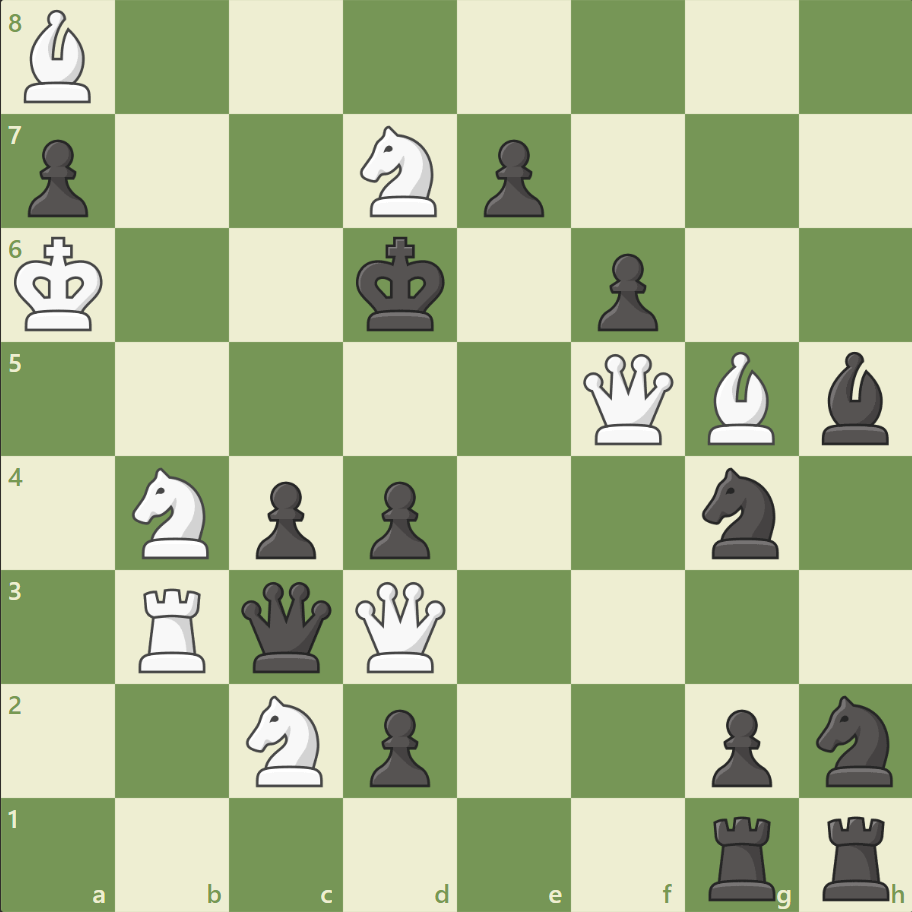B: (17, 6, 101, 109), (698, 347, 782, 449)
K: (11, 231, 111, 339)
N: (124, 461, 222, 564), (351, 121, 449, 223), (238, 688, 335, 791)
Q: (578, 349, 677, 449), (351, 576, 450, 676)
R: (133, 579, 215, 676)
b: (812, 347, 896, 449)
k: (351, 231, 451, 339)
n: (692, 461, 789, 564), (806, 688, 903, 791)
p: (20, 132, 95, 223), (474, 132, 549, 223), (247, 473, 322, 564), (701, 700, 776, 791), (588, 246, 662, 337), (361, 473, 435, 564), (361, 700, 435, 791)
q: (237, 576, 336, 676)
r: (700, 806, 783, 904), (814, 806, 897, 904)
